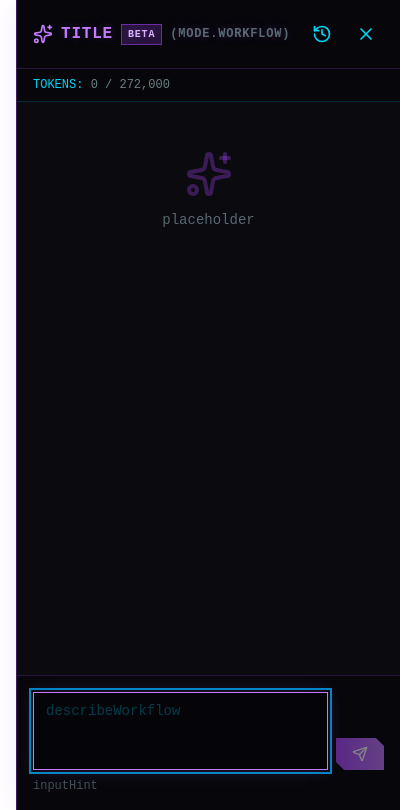
Test: ChatSidebar - Session Switcher › should display all sessions in the list
Note: Open session selector
What coordinates should you click on to do the following:
click the button named "history"
I would click on:
 (322, 34)
Its box is [304, 16, 340, 52].
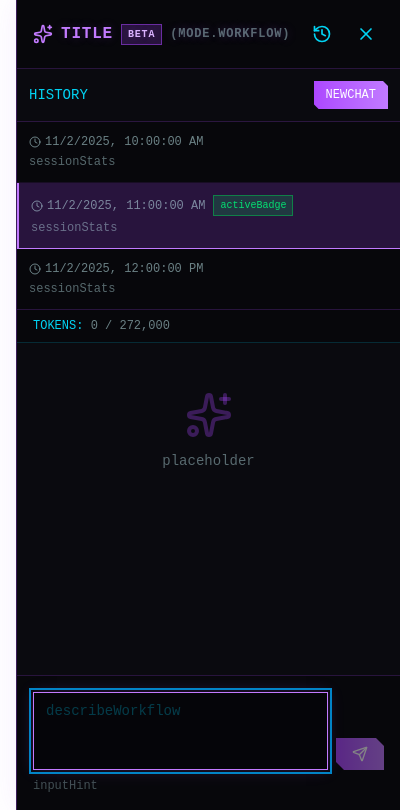
Check: the button with test id "active-session" is shown, box [17, 183, 400, 249]
Check: the number of buttons with test id "inactive-session" is 2, box [17, 122, 400, 183]; [17, 249, 400, 309]
